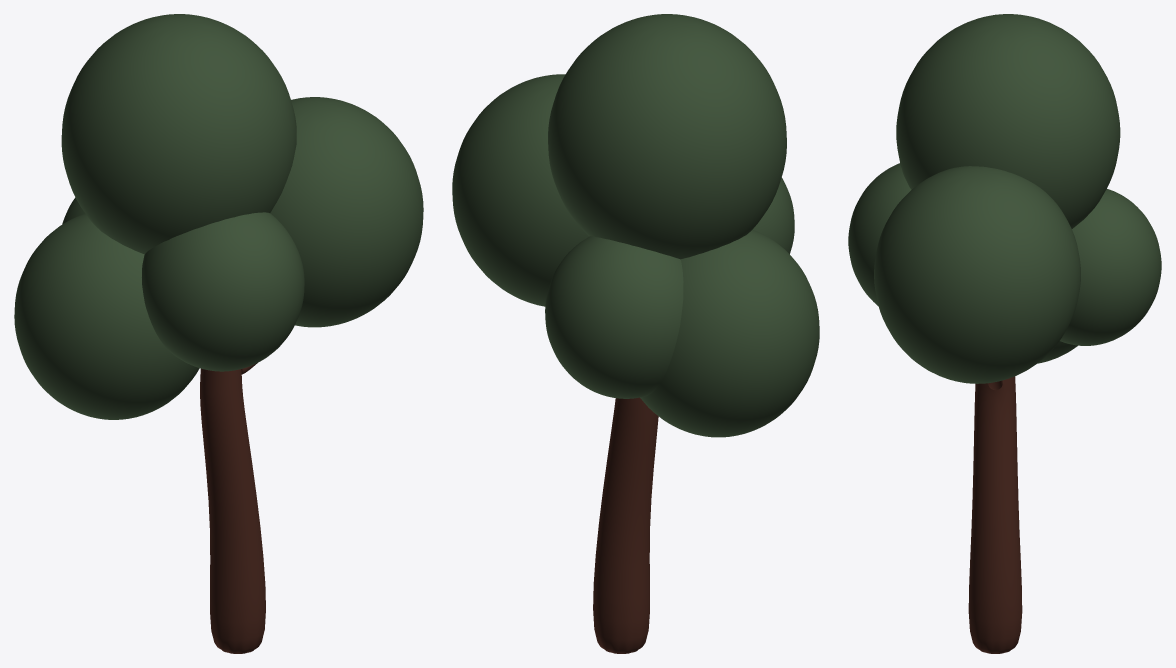
The model's file is tree1.fbx.
The picture shows the model from 3 angles, left to right: view 1: azimuth 30°, elevation 25°; view 2: azimuth 150°, elevation 25°; view 3: azimuth 270°, elevation 25°; orthographic projection. The views are drawn at different scales.
Visible parts, largest first — view 1: TREE_1; view 2: TREE_1; view 3: TREE_1.
Boxes of the visible parts, bbox=[...] form: TREE_1: bbox=[14, 14, 423, 653]; TREE_1: bbox=[452, 14, 819, 653]; TREE_1: bbox=[848, 14, 1161, 653].
Size of the model in its own units: 383 by 646 by 305.
